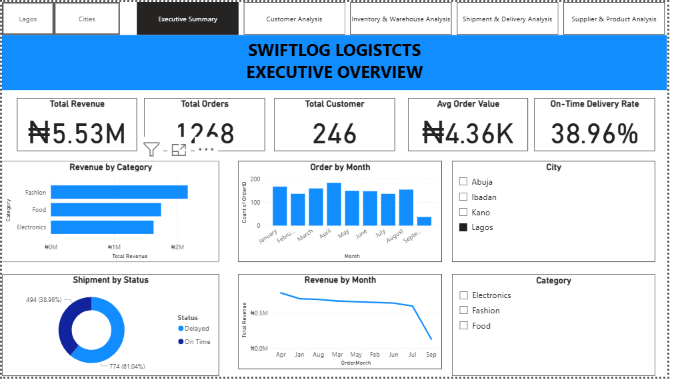

The page's visual inventory and layout, read from the dashboard file:
{"tool":"powerbi","page":{"name":"Executive Summary","canvas":[1280,720],"ordinal":0},"visuals":[{"type":"textbox","box":[0,63.5,1278.8,105.8],"z":0},{"type":"lineChart","title":"Revenue by Month","fields":{"Y":["SwiftLog_Customers.Total Revenue"],"Category":["SwiftLog_Orders.OrderMonth"]},"box":[453.8,523.1,392.3,182.7],"z":1},{"type":"card","title":"On-Time Delivery Rate","fields":{"Values":["SwiftLog_Customers.On-Time Delivery Rate"]},"box":[1023.1,184.6,232.7,101.9],"z":2},{"type":"card","title":"Avg Order Value","fields":{"Values":["SwiftLog_Customers.Average Order Value"]},"box":[780.8,184.6,230.8,101.9],"z":4},{"type":"card","title":"Total Revenue","fields":{"Values":["SwiftLog_Customers.Total Revenue"]},"box":[28.8,184.6,230.8,101.9],"z":5},{"type":"card","title":"Total Customer","fields":{"Values":["SwiftLog_Customers.Total Customers"]},"box":[523.1,184.6,232.7,101.9],"z":6},{"type":"card","title":"Total Orders","fields":{"Values":["SwiftLog_Customers.Total Orders"]},"box":[273.1,184.6,232.7,101.9],"z":7},{"type":"donutChart","title":"Shipment by Status","fields":{"Category":["SwiftLog_Delivery_Performance.Status"],"Y":["CountNonNull(SwiftLog_Delivery_Performance.ShipmentID)"]},"box":[0,523.1,417.3,196.2],"z":8},{"type":"clusteredColumnChart","title":"Order by Month","fields":{"Category":["SwiftLog_Orders.OrderDate.Variation.Date Hierarchy.Month"],"Y":["Count(SwiftLog_Orders.OrderID)"]},"box":[453.8,305.8,392.3,194.2],"z":9},{"type":"clusteredBarChart","title":"Revenue by Category","fields":{"Category":["SwiftLog_Products.Category"],"Y":["SwiftLog_Customers.Total Revenue"]},"box":[0,305.8,417.3,194.2],"z":10},{"type":"slicer","title":"City","fields":{"Values":["SwiftLog_Customers.City"]},"box":[865.4,305.8,390.4,194.2],"z":11},{"type":"pageNavigator","box":[259.6,0,1019.2,63.5],"z":13},{"type":"slicer","title":"Category","fields":{"Values":["SwiftLog_Products.Category"]},"box":[865.4,523.1,390.4,196.2],"z":14},{"type":"actionButton","box":[0,0,100,63.5],"z":15},{"type":"actionButton","box":[100,0,126.9,63.5],"z":16}]}

Visuals, with their boxes in screenshot pixels (x1, y1, x2, y2), scaled from the page's 1280x720 canvas onto the 677x388 screenshot:
textbox: 0:34:676:91
"Revenue by Month" lineChart: 240:282:448:380
"On-Time Delivery Rate" card: 541:99:664:154
"Avg Order Value" card: 413:99:535:154
"Total Revenue" card: 15:99:137:154
"Total Customer" card: 277:99:400:154
"Total Orders" card: 144:99:268:154
"Shipment by Status" donutChart: 0:282:221:387
"Order by Month" clusteredColumnChart: 240:165:448:269
"Revenue by Category" clusteredBarChart: 0:165:221:269
"City" slicer: 458:165:664:269
pageNavigator: 137:0:676:34
"Category" slicer: 458:282:664:387
actionButton: 0:0:53:34
actionButton: 53:0:120:34
